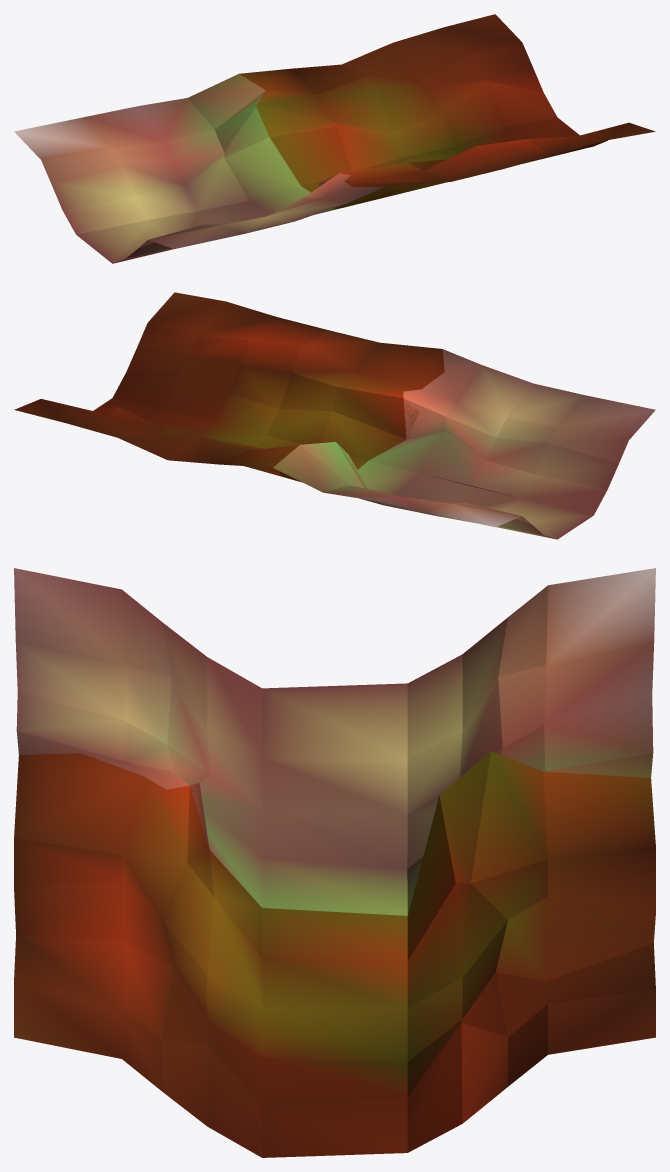
File: TerrainBlend.fbx
3 renders of one model, top to bottom at view 1: azimuth 30°, elevation 25°; view 2: azimuth 150°, elevation 25°; view 3: azimuth 270°, elevation 25°, orthographic. The views are drawn at different scales.
Parts seen in each view (by area): view 1: Plane.001; view 2: Plane.001; view 3: Plane.001.
Boxes of the visible parts, left/top/right/bottom form: Plane.001: left=14, top=14, right=655, bottom=263; Plane.001: left=14, top=292, right=655, bottom=539; Plane.001: left=14, top=568, right=655, bottom=1157.
Size of the model in its own units: 1000 by 151 by 578.
